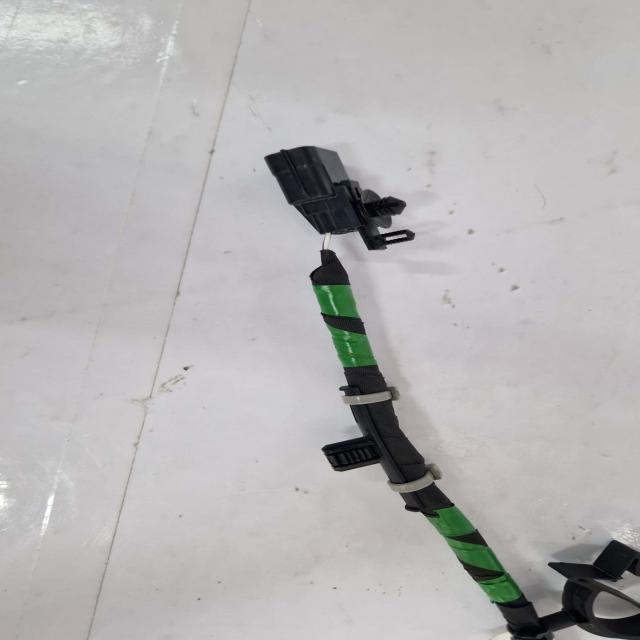AJ20_D6_Cable: (302, 251, 535, 640)
Clip: (524, 535, 640, 634)
Connector: (258, 150, 404, 252)
Gape: (313, 235, 322, 251)
strap: (377, 461, 431, 489), (333, 385, 388, 404)
